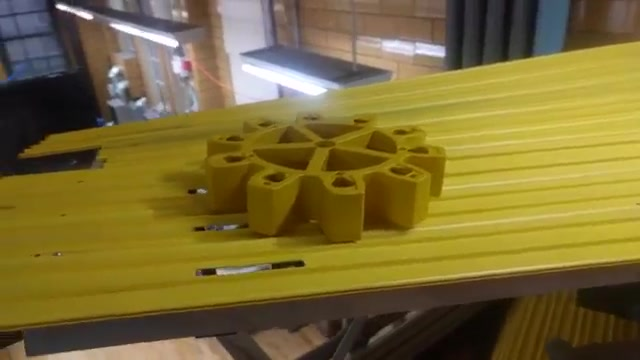gear: (182, 107, 447, 231)
